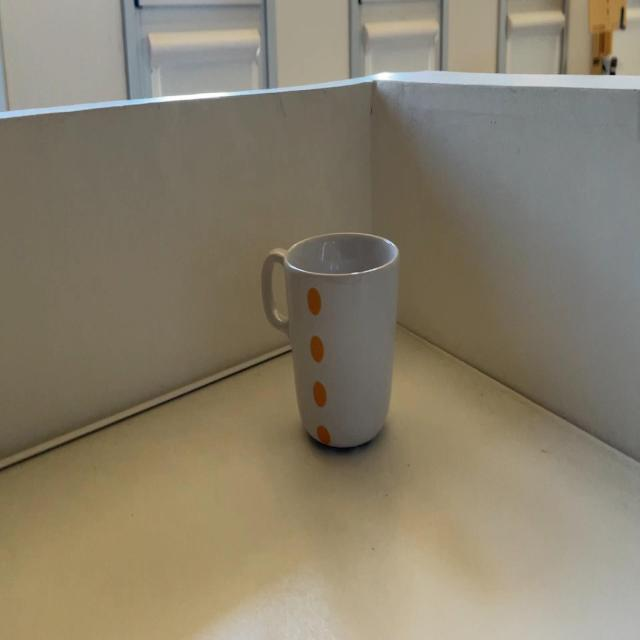cup: (259, 231, 406, 446)
